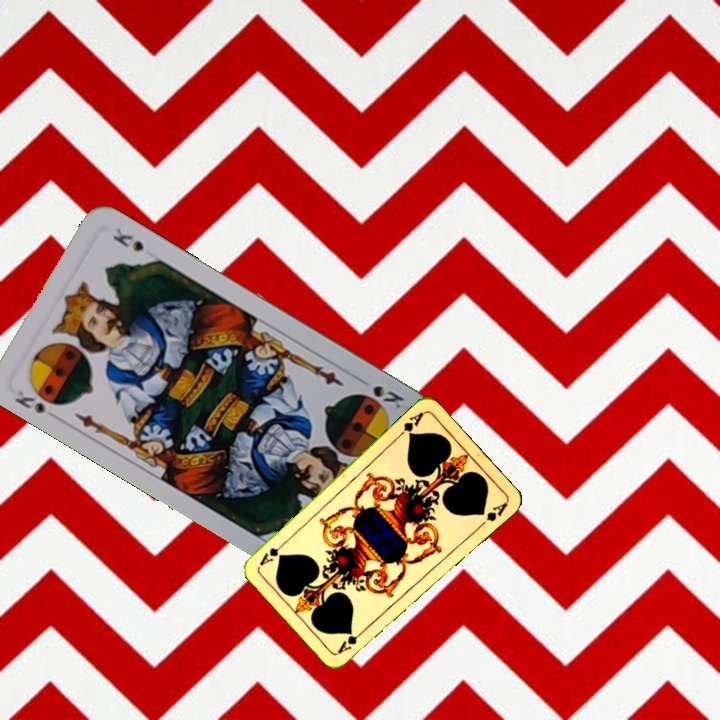GA: (393, 408, 426, 440), (334, 625, 368, 656)
SK: (354, 373, 407, 412), (10, 382, 48, 417)
